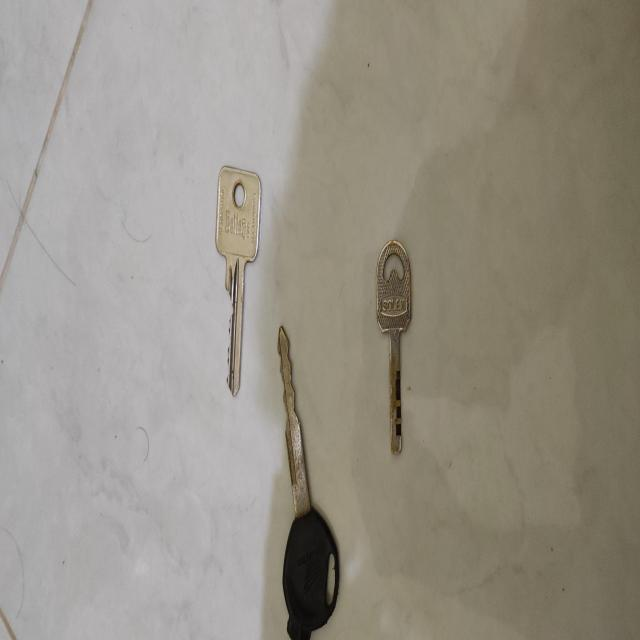kunci_kos: (215, 157, 263, 405)
kunci_motor: (274, 317, 342, 636)
kunci_pagar: (374, 233, 422, 467)
